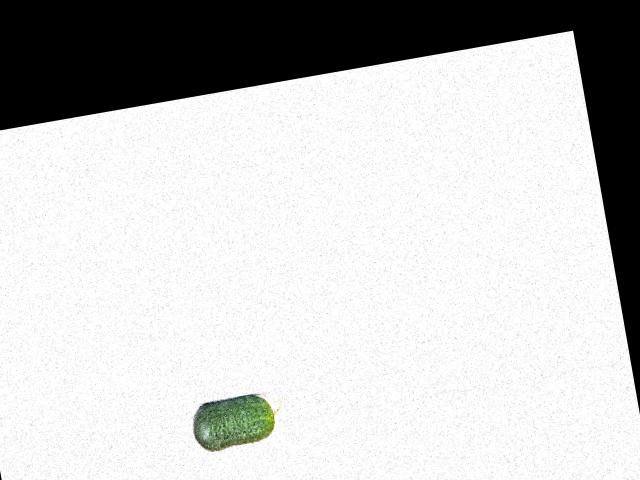cucumber: (189, 390, 287, 453)
